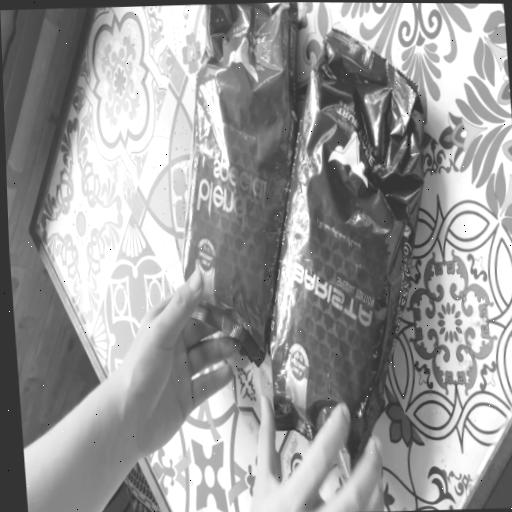cafe_hat: (270, 28, 423, 478)
cafe_xay: (181, 2, 299, 363)
